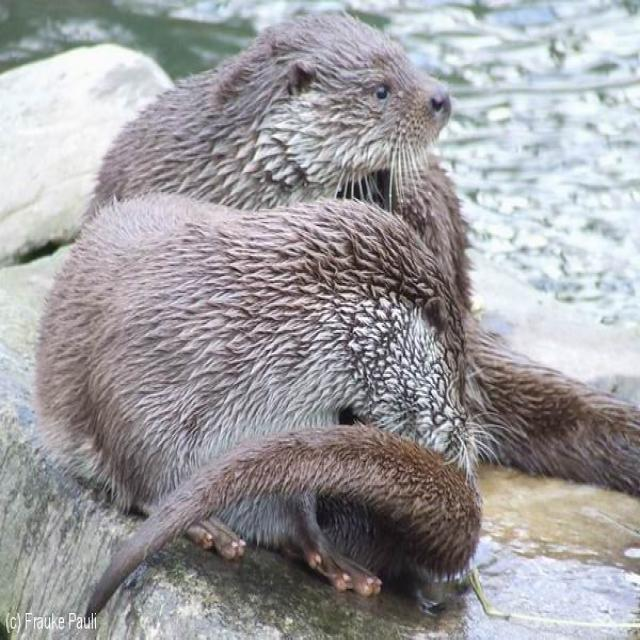otter: (84, 14, 640, 495), (40, 194, 480, 627)
